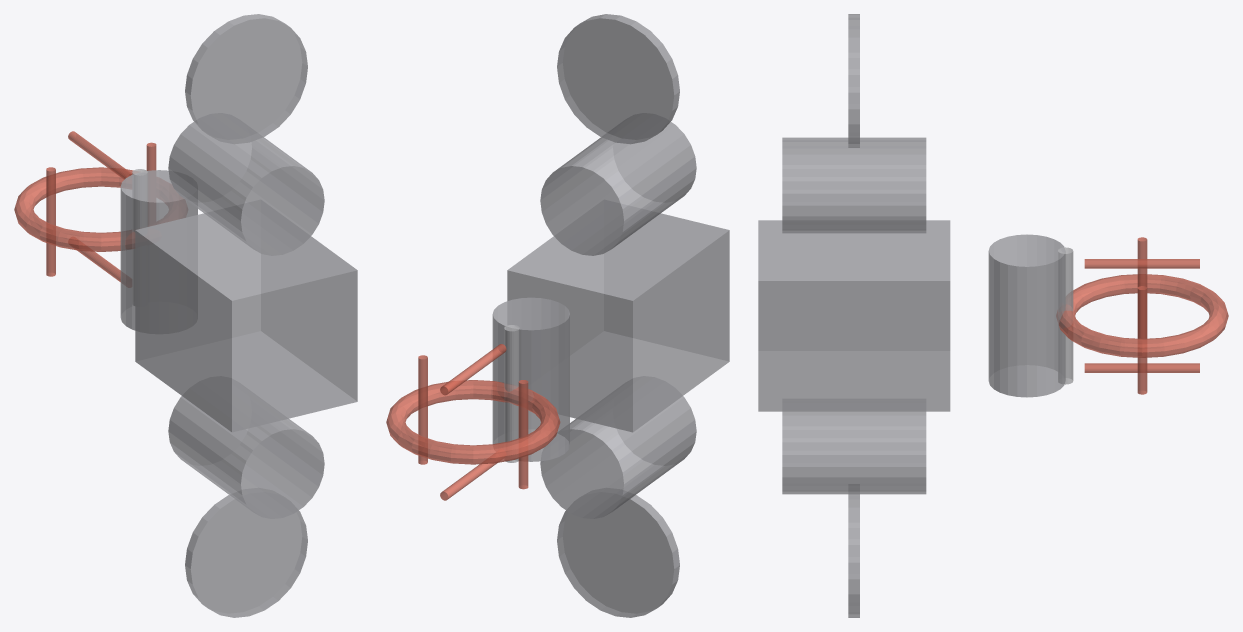
Rendered from gate_valve.glb.
3 renders of one model, left to right at view 1: azimuth 30°, elevation 25°; view 2: azimuth 150°, elevation 25°; view 3: azimuth 270°, elevation 25°, orthographic.
Parts seen in each view (by area): view 1: Body, Pipe_1.5, Flange_1.5, Pipe_-1.5, Flange_-1.5, Bonnet, Handwheel, Stem, Spoke_180, Spoke_90; view 2: Body, Pipe_1.5, Flange_1.5, Flange_-1.5, Pipe_-1.5, Bonnet, Handwheel, Stem, Spoke_180, Spoke_0, Spoke_90, Spoke_270; view 3: Body, Pipe_1.5, Pipe_-1.5, Bonnet, Handwheel, Stem, Flange_1.5, Flange_-1.5, Spoke_90, Spoke_270, Spoke_0.
Boxes of the visible parts, x1,y1,x2,y2 form: Body: [135, 213, 357, 432]; Pipe_1.5: [168, 121, 324, 255]; Flange_1.5: [185, 14, 307, 144]; Pipe_-1.5: [168, 396, 324, 518]; Flange_-1.5: [185, 495, 307, 617]; Bonnet: [120, 170, 197, 330]; Handwheel: [14, 167, 134, 251]; Stem: [132, 169, 147, 305]; Spoke_180: [46, 167, 55, 276]; Spoke_90: [68, 131, 132, 179]; Body: [507, 213, 729, 432]; Pipe_1.5: [540, 121, 696, 255]; Flange_1.5: [557, 14, 679, 144]; Flange_-1.5: [557, 495, 679, 617]; Pipe_-1.5: [540, 396, 696, 518]; Bonnet: [492, 297, 569, 461]; Handwheel: [386, 380, 560, 464]; Stem: [504, 325, 519, 462]; Spoke_180: [518, 380, 528, 489]; Spoke_0: [418, 355, 427, 464]; Spoke_90: [440, 344, 506, 395]; Spoke_270: [440, 463, 497, 500]; Body: [758, 220, 950, 411]; Pipe_1.5: [782, 137, 926, 233]; Pipe_-1.5: [782, 411, 926, 494]; Bonnet: [988, 234, 1065, 397]; Handwheel: [1056, 274, 1228, 357]; Stem: [1058, 247, 1073, 384]; Flange_1.5: [848, 14, 859, 147]; Flange_-1.5: [848, 494, 859, 617]; Spoke_90: [1084, 259, 1199, 268]; Spoke_270: [1084, 363, 1199, 372]; Spoke_0: [1137, 286, 1147, 394].
Bounding box in the file's own units: 1.8 × 6.8 × 4.9.
